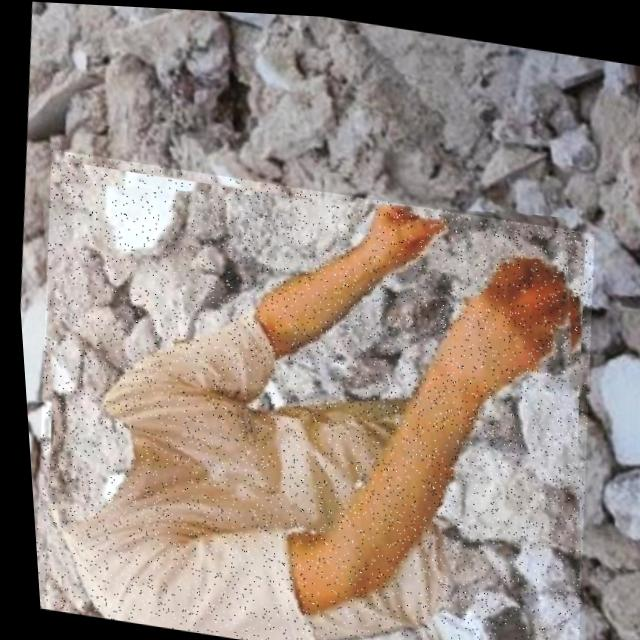Person in Rubble: (8, 146, 615, 640)
